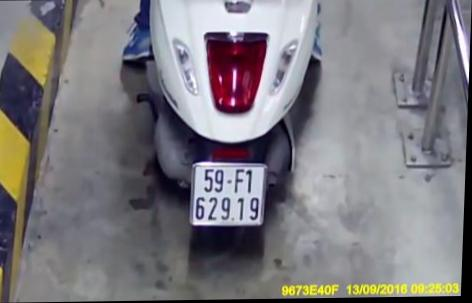LP: (190, 160, 270, 228)
